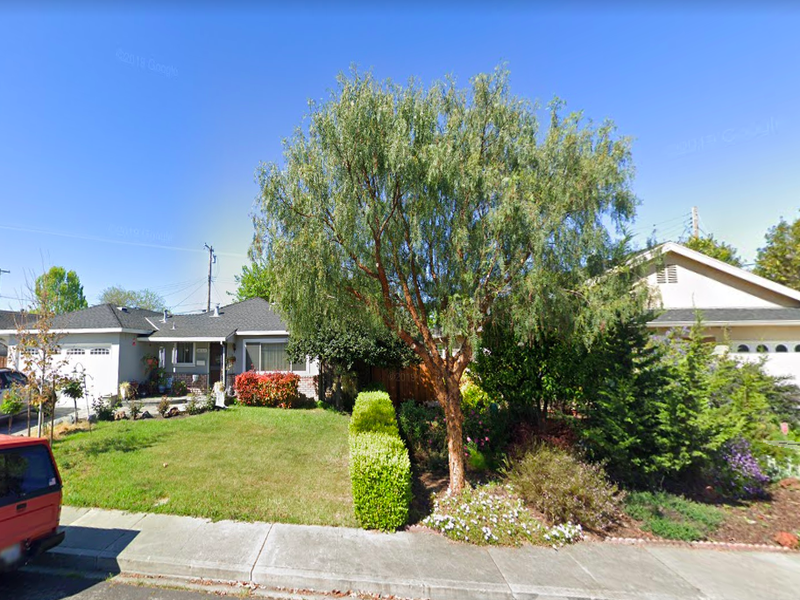tree: (249, 59, 663, 523)
